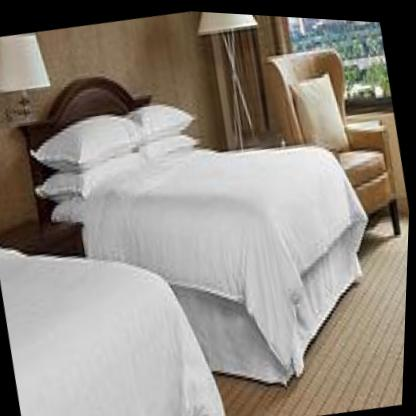Bed: (4, 28, 388, 416)
Chair: (256, 31, 411, 252)
